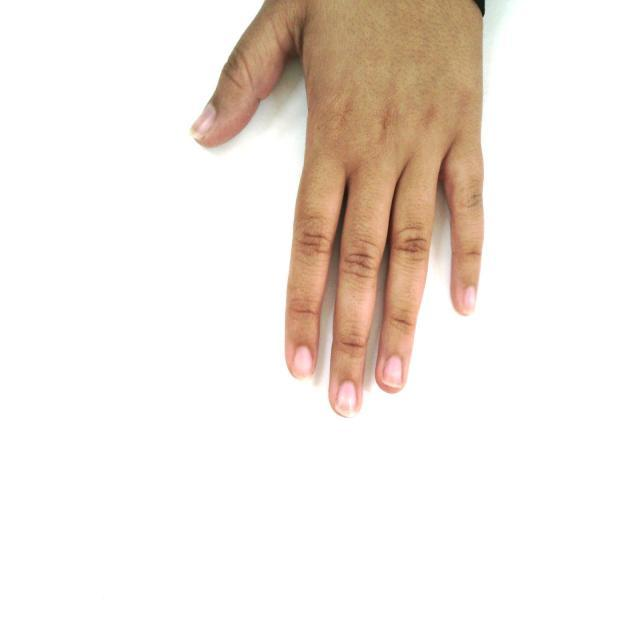Fingernail: (192, 103, 215, 136), (337, 381, 357, 416), (294, 346, 313, 378), (382, 356, 402, 386), (462, 286, 475, 314)
